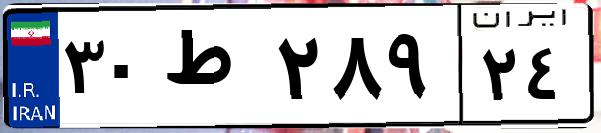0: (110, 28, 158, 98)
2: (270, 28, 330, 110), (475, 38, 525, 113)
3: (57, 26, 110, 100)
4: (525, 38, 570, 115)
8: (330, 28, 385, 110)
9: (385, 28, 445, 110)
ط: (158, 20, 270, 120)
